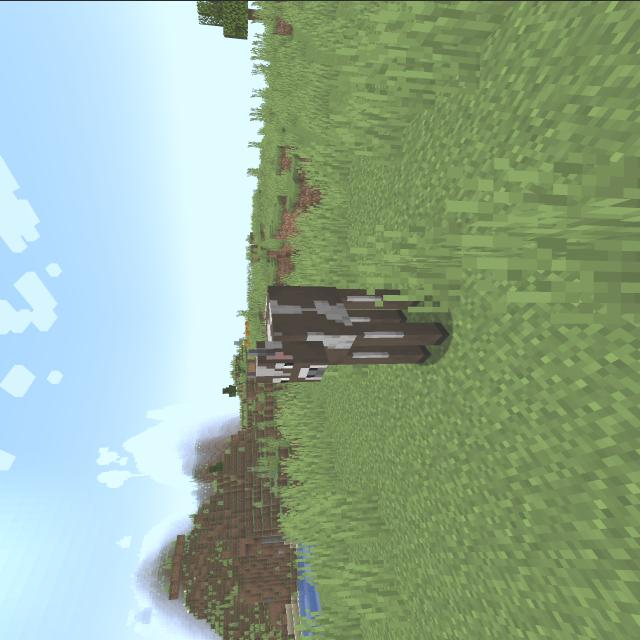cow: (233, 278, 452, 387)
